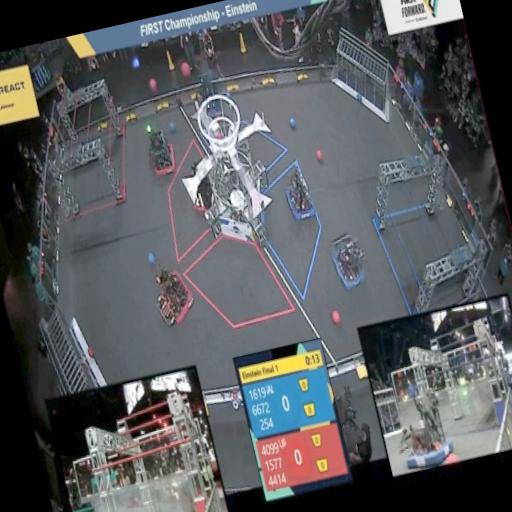robot: (144, 252, 203, 338), (318, 225, 374, 300), (180, 148, 223, 223), (138, 118, 184, 184), (276, 160, 322, 225), (189, 65, 228, 124)
